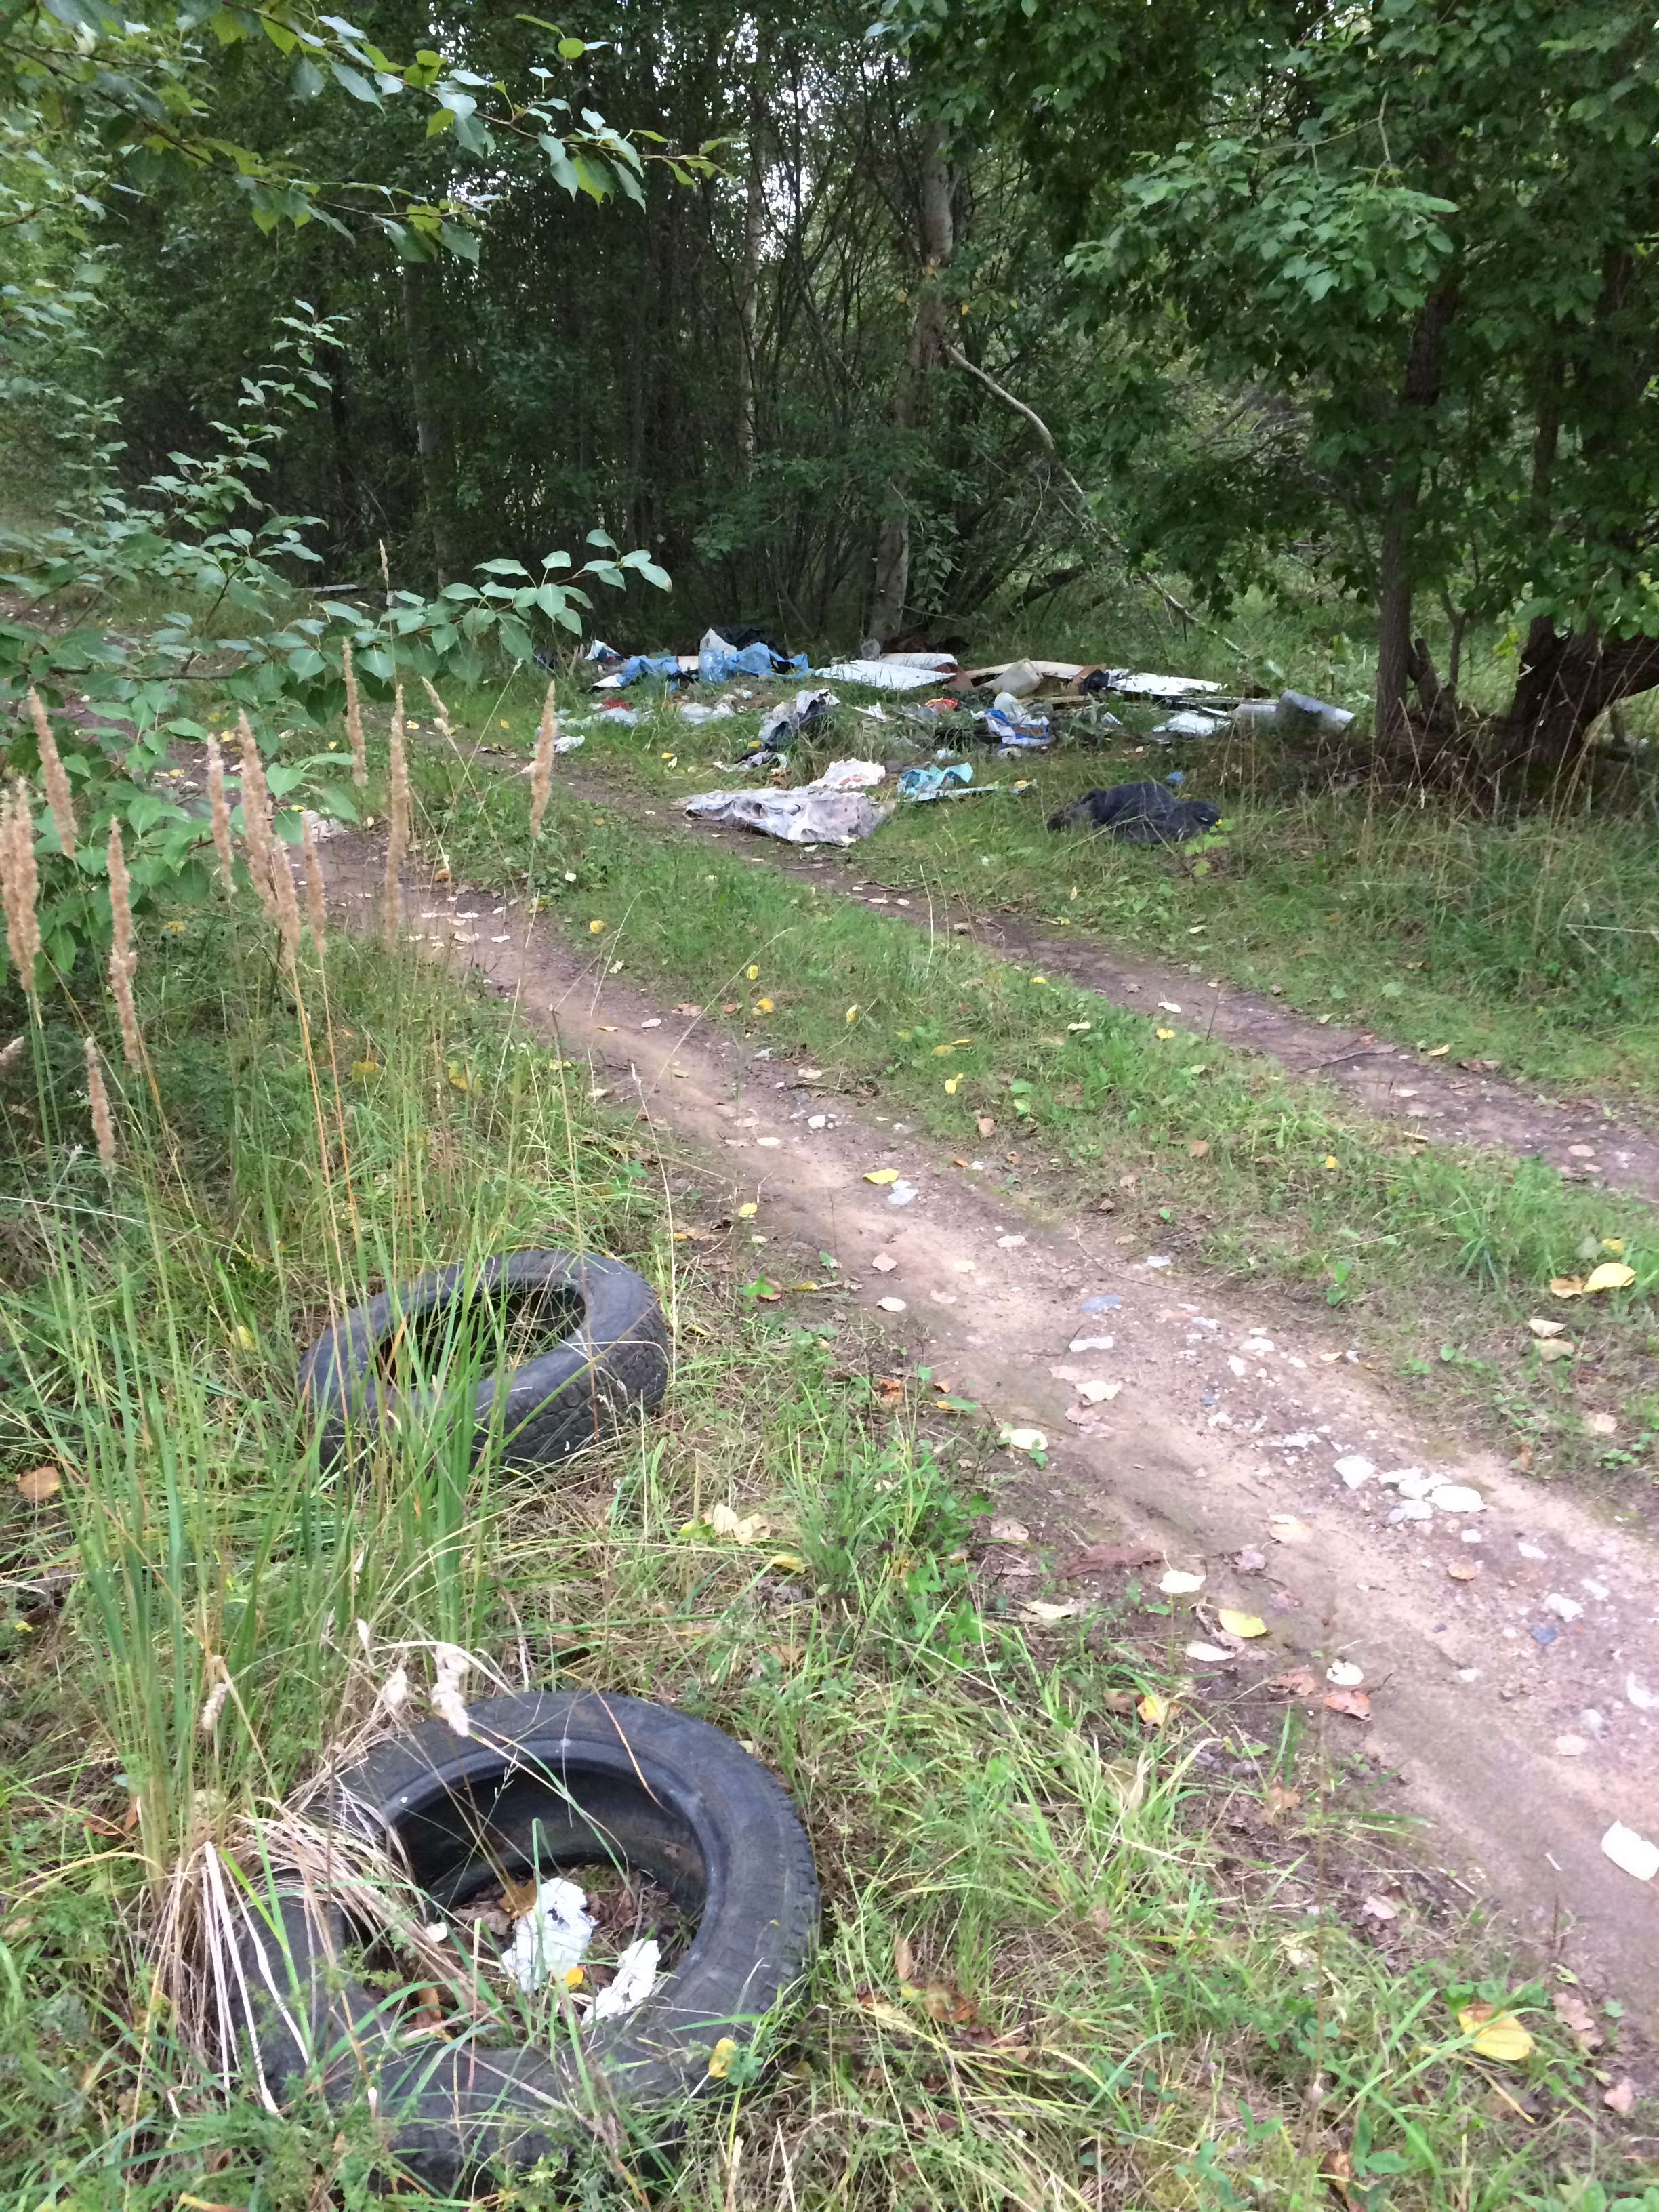trash: (129, 1635, 833, 2153), (502, 556, 1413, 874), (247, 1202, 744, 1498)
